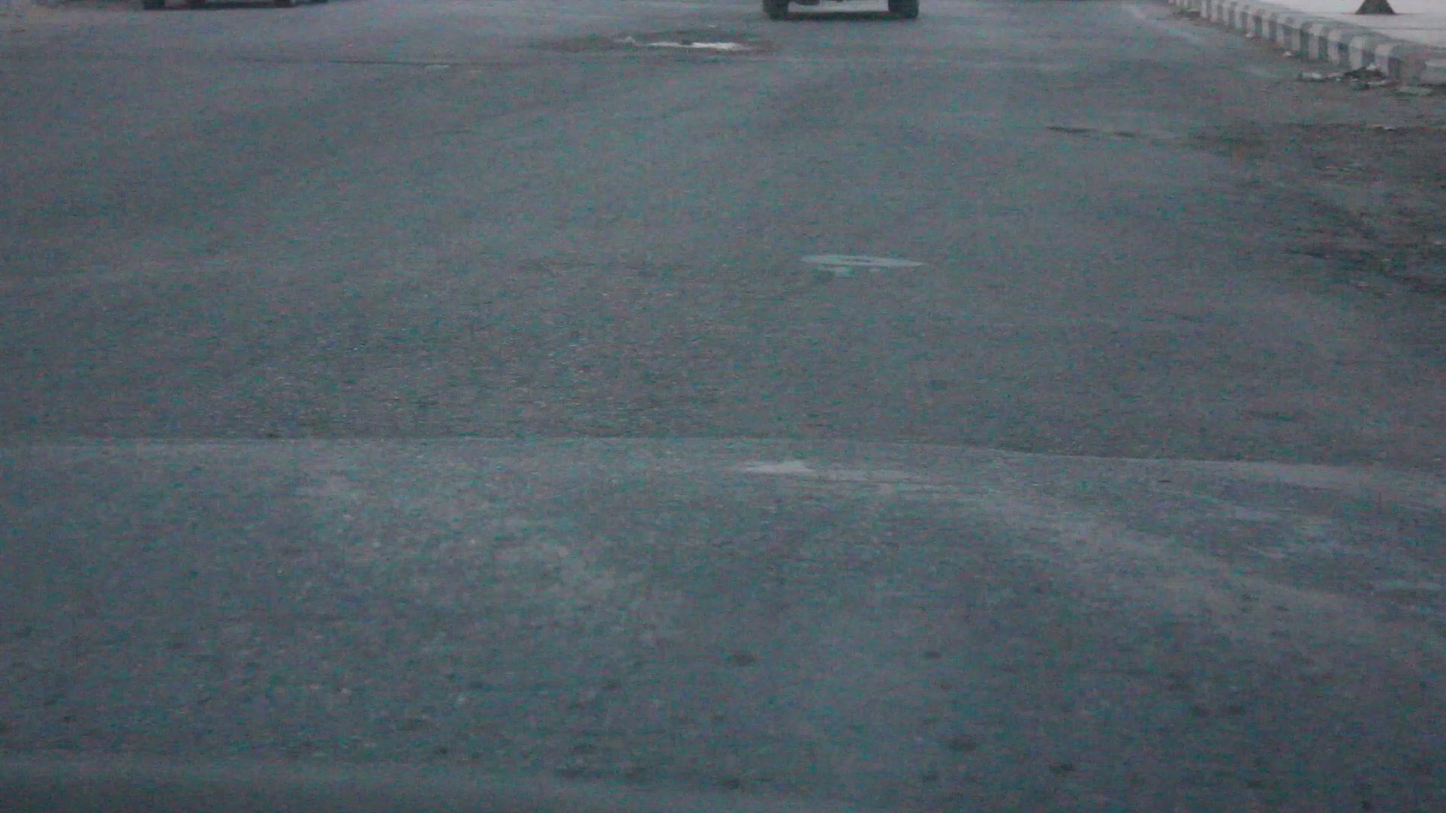Bump: (0, 435, 1444, 812)
Pothole: (1097, 117, 1445, 181), (565, 23, 775, 54)
